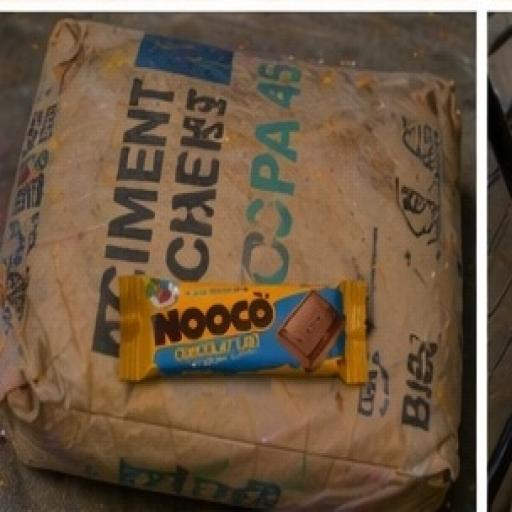biscuit-detection: (100, 242, 403, 426)
